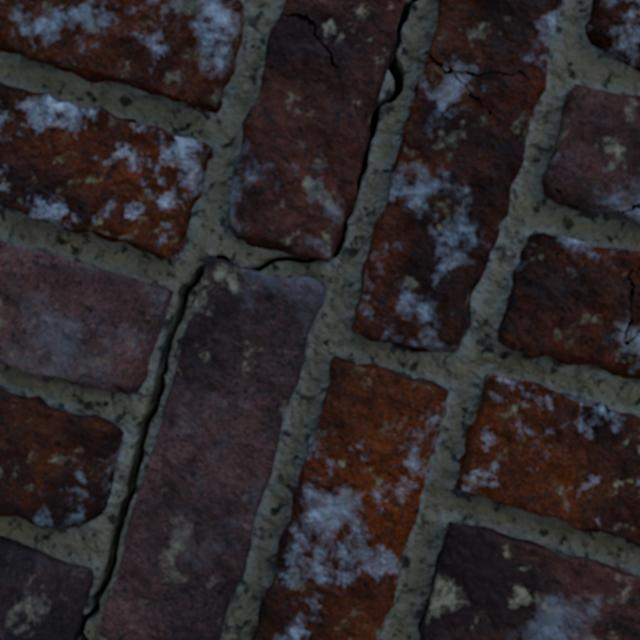crack: (0, 0, 419, 639), (351, 0, 562, 352), (251, 356, 448, 639), (0, 82, 212, 260), (455, 374, 639, 546), (0, 0, 244, 112), (0, 240, 172, 394), (418, 522, 639, 639), (498, 233, 639, 378), (0, 390, 123, 529), (542, 84, 639, 225), (585, 0, 639, 71)
